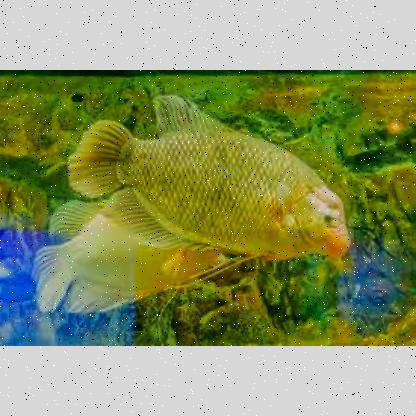gurame: (83, 96, 351, 258)
